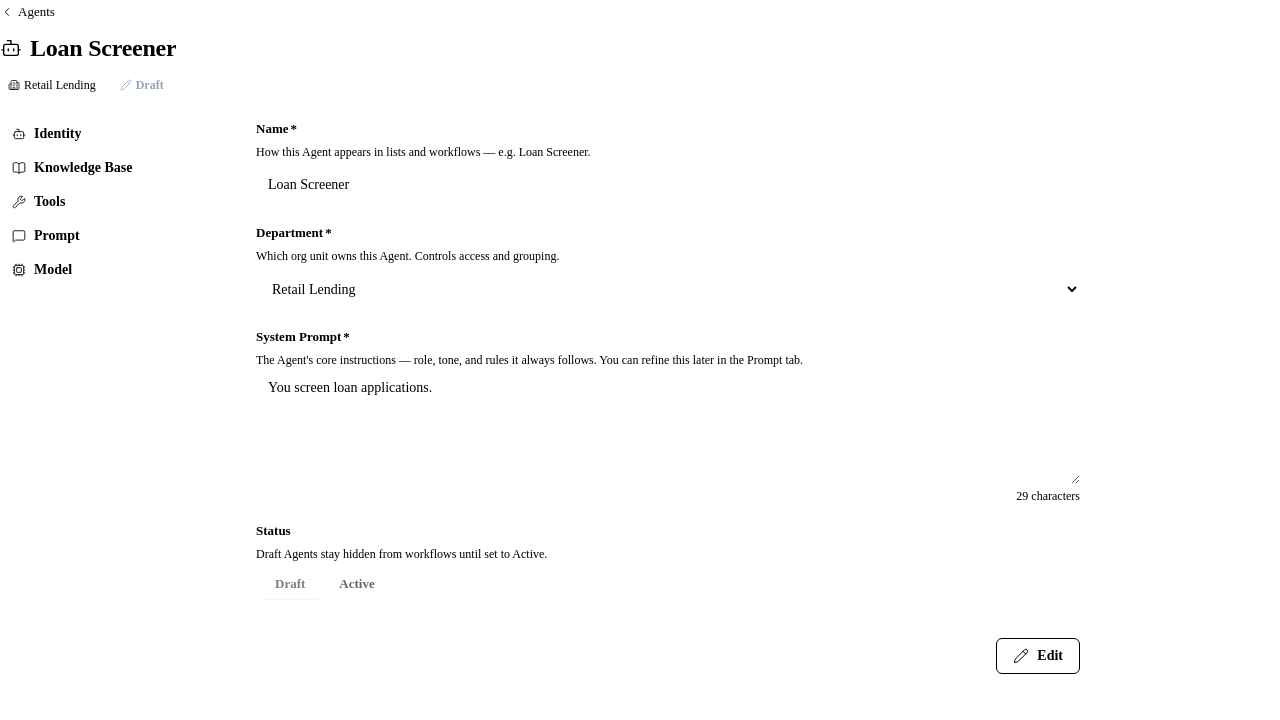
Scenario: AgentDetailShell — Story 2.8 integration › opens a Save/Discard/Cancel dialog when switching away from a dirty tab (AC #4)
This screenshot has width=1280, height=720.
Check: the element with test id "vaic-identity-tab" is shown, box [256,118,1080,674]
Click the button with test id "vaic-tab-edit" at {"x": 1038, "y": 656}, box [996,638,1080,674]
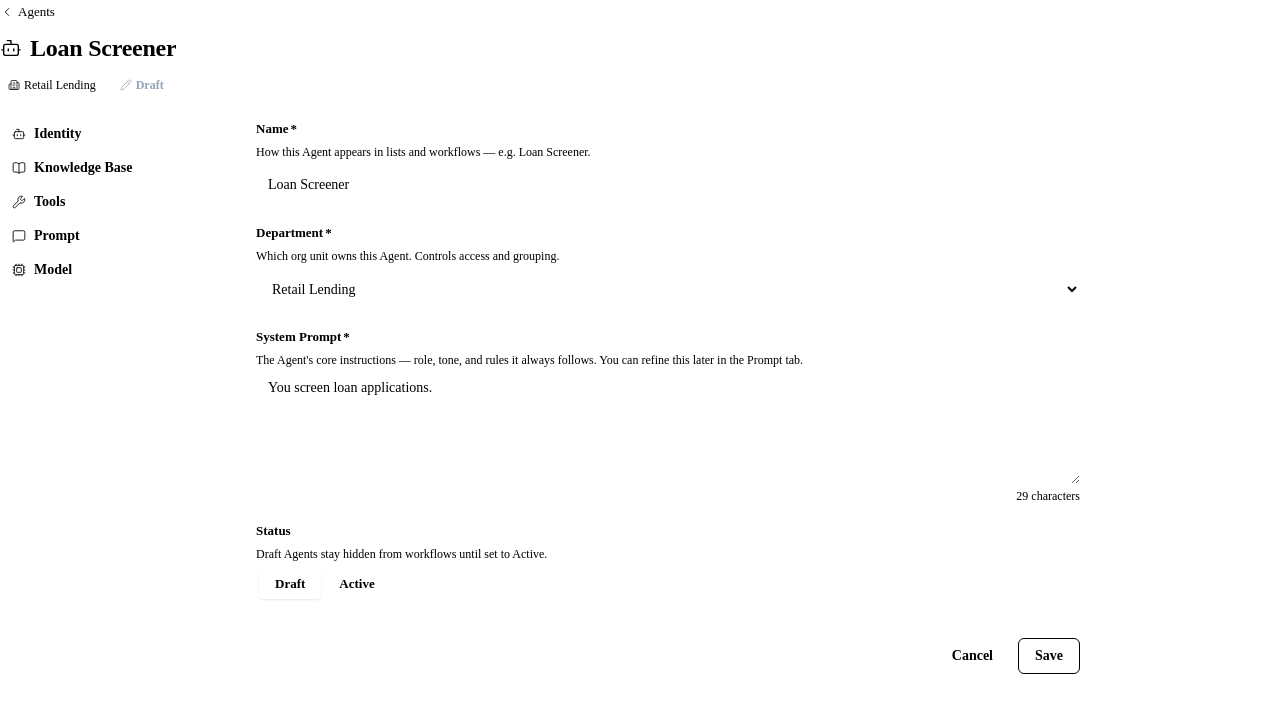
Replace the text in the field labelled "Name" with "Loan Screener v2" at {"x": 668, "y": 185}, box [256,164,1080,206]
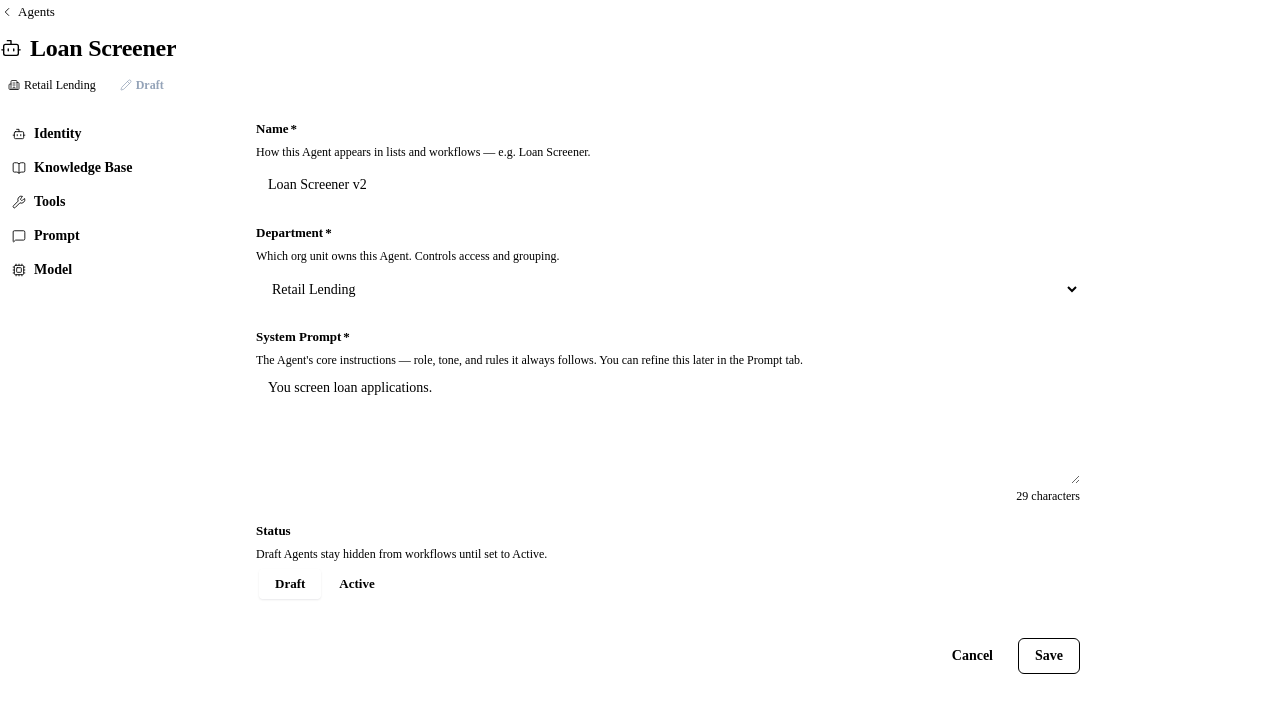
Click the tab with test id "vaic-tab-model" at {"x": 116, "y": 270}, box [0,254,232,286]
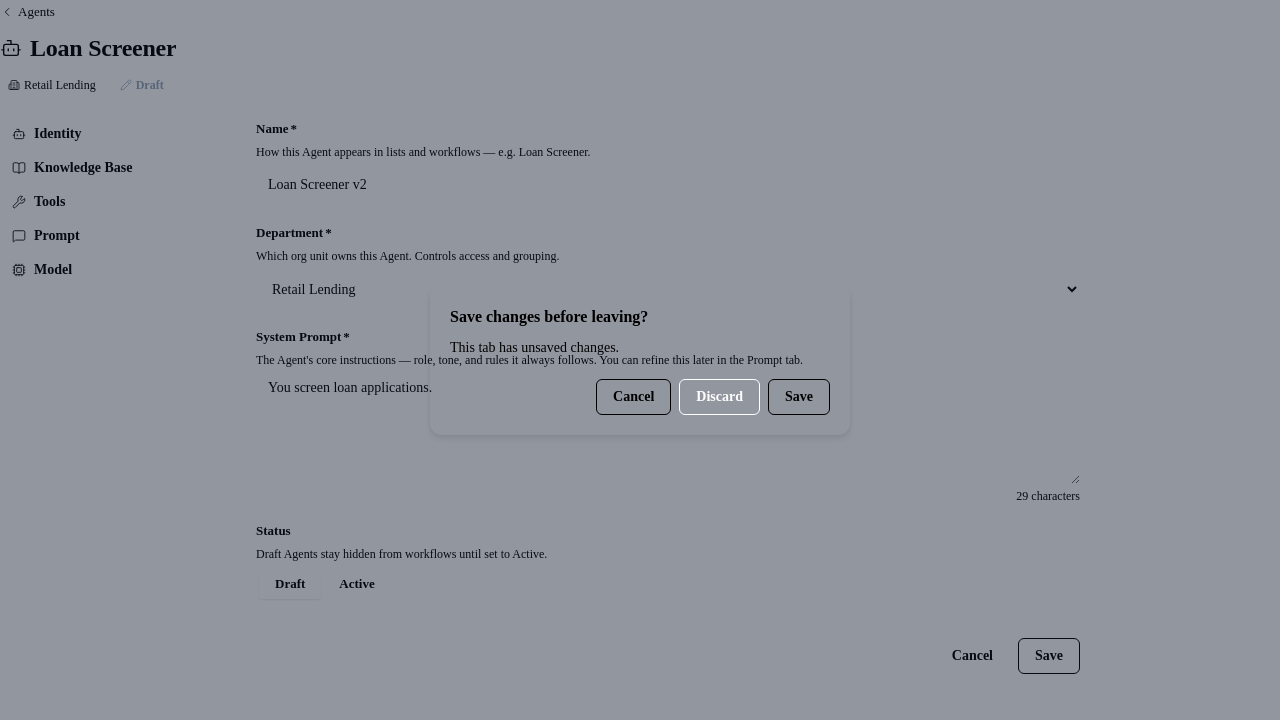
Check: the button "Save" is shown, box [768,379,830,415]
Check: the button "Discard" is shown, box [679,379,760,415]
Check: the button "Cancel" is shown, box [596,379,671,415]
